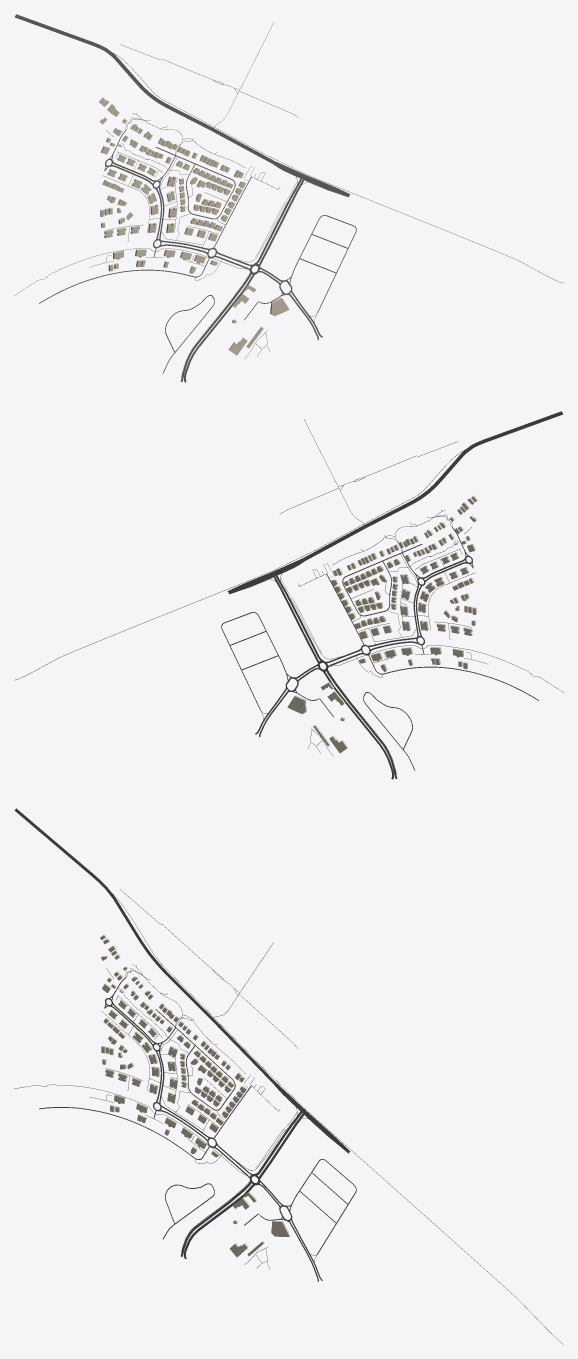
Rendered from historic-palestine-04_20_3458_3143.glb.
The picture shows the model from 3 angles, top to bottom: view 1: azimuth 30°, elevation 25°; view 2: azimuth 150°, elevation 25°; view 3: azimuth 330°, elevation 25°; orthographic projection.
Parts seen in each view (by area): view 1: Road 25.001, Road 25; view 2: Road 25.001, Road 25; view 3: Road 25.001.
Boxes of the visible parts, x1,y1,x2,y2 form: Road 25.001: [14, 14, 274, 163]; Road 25: [99, 46, 563, 283]; Road 25.001: [303, 411, 563, 560]; Road 25: [14, 443, 478, 680]; Road 25.001: [14, 808, 274, 1083].
Bounding box in the file's own units: 2093 × 1490 × 8.7.
